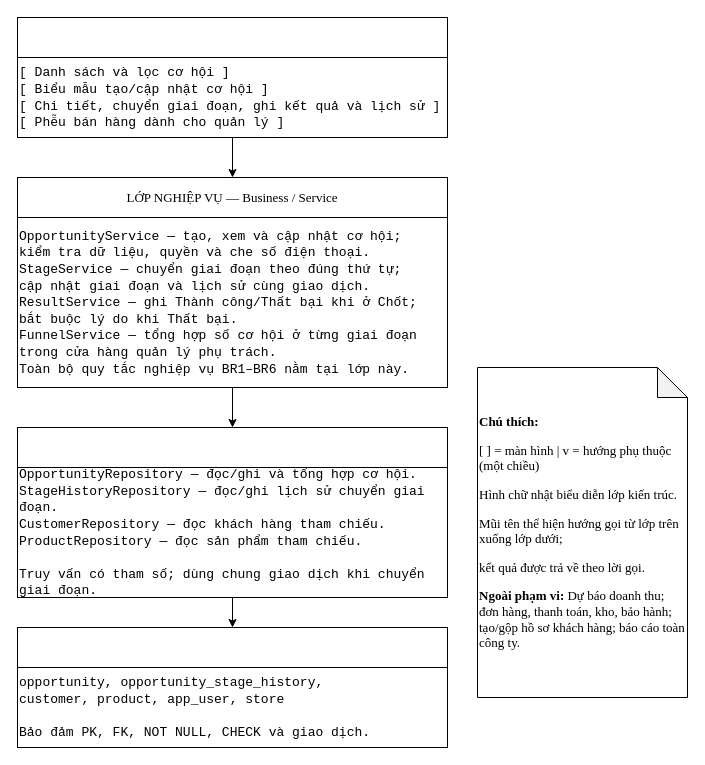
Image size: 705x765. Some labels were removed from this diagram. Each missing label, with the centre of its shape:
LỚP LƯU TRỮ — PostgreSQL: the point at 232,647
LỚP TRUY CẬP DỮ LIỆU — Repository: the point at 232,447
LỚP TRÌNH BÀY — Presentation: the point at 232,37
